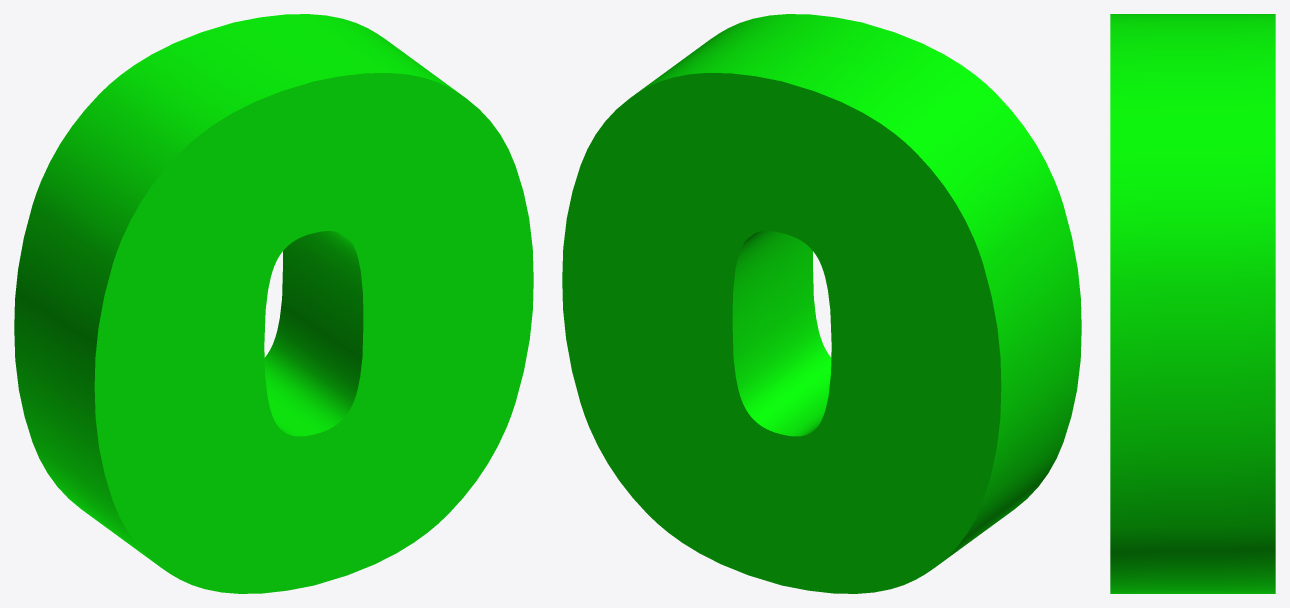
3 renders of one model, left to right at view 1: azimuth 30°, elevation 25°; view 2: azimuth 150°, elevation 25°; view 3: azimuth 270°, elevation 25°, orthographic. The views are drawn at different scales.
Parts seen in each view (by area): view 1: Texto; view 2: Texto; view 3: Texto.
Boxes of the visible parts, x1=… form: Texto: x1=14, y1=14, x2=533, y2=593; Texto: x1=562, y1=14, x2=1081, y2=593; Texto: x1=1110, y1=14, x2=1275, y2=593.
Bounding box in the file's own units: 1.36 × 1.49 × 0.43.
